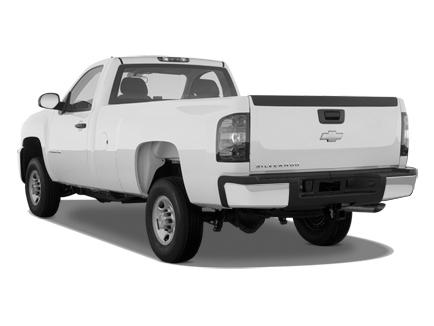car: (20, 56, 419, 265)
